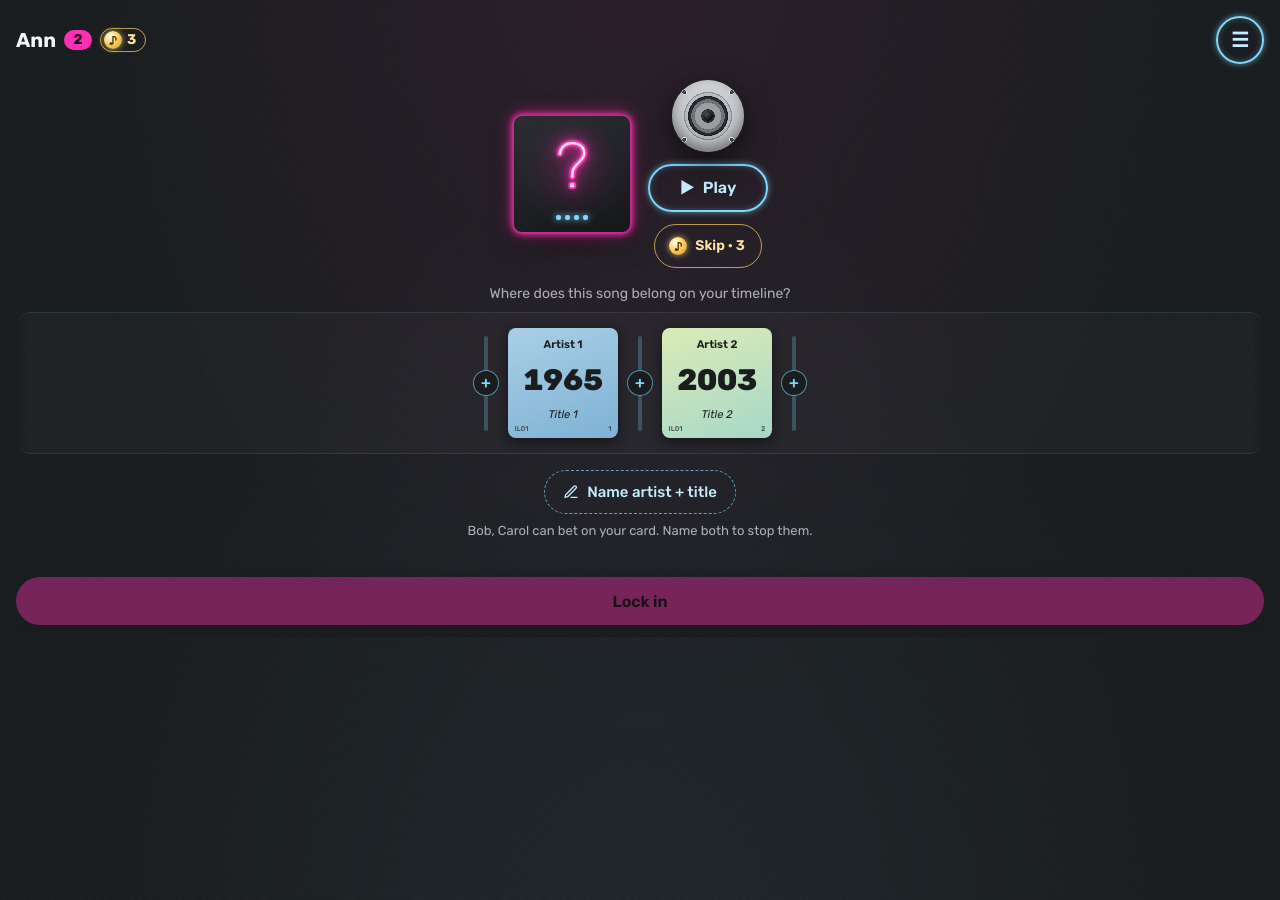
Test: GameScreen with tokens and bets: the turn › skip asks first: "Keep listening" changes nothing, Skip pays 3 tokens and loads a new song
What coordinates should you click on to do the following:
click the 2nd button with test id "timeline-slot"
I would click on:
 (640, 383)
Its box is [618, 324, 662, 442].
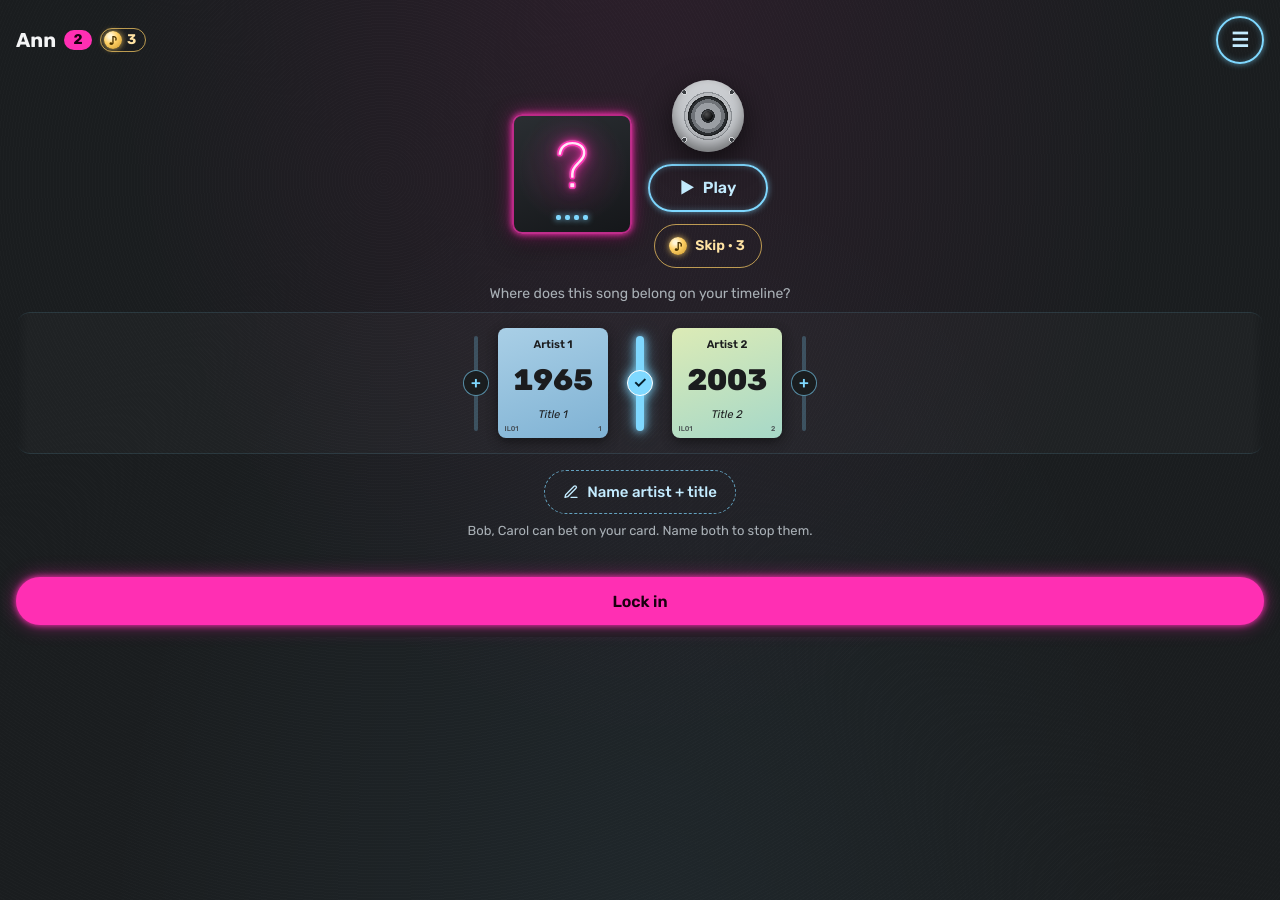
What coordinates should you click on to do the following:
click the button with test id "btn-skip-song"
I would click on:
 (708, 246)
Its box is [654, 224, 762, 268].
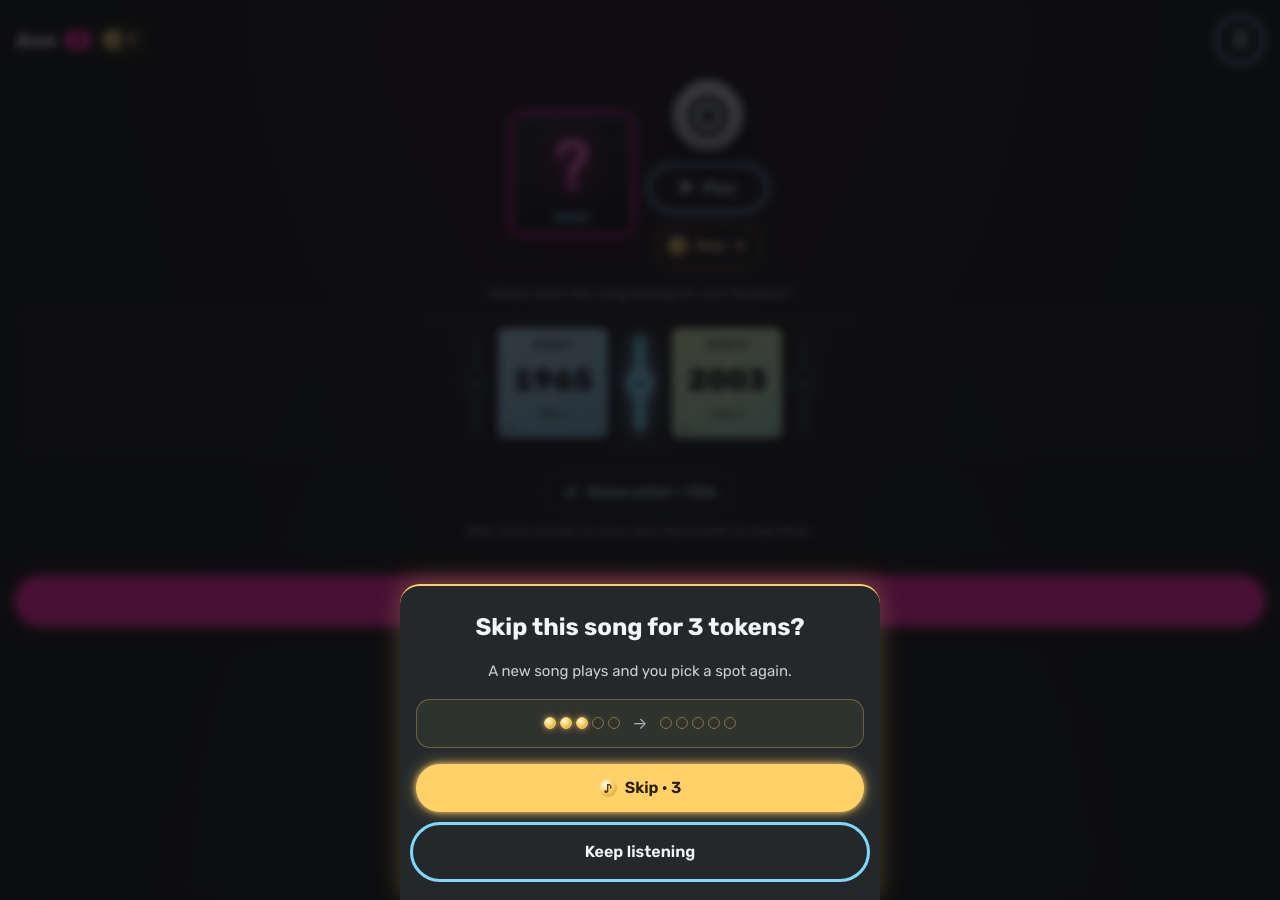
What coordinates should you click on to do the following:
click the button "Keep listening"
I would click on:
 (640, 852)
Its box is [416, 828, 864, 876].
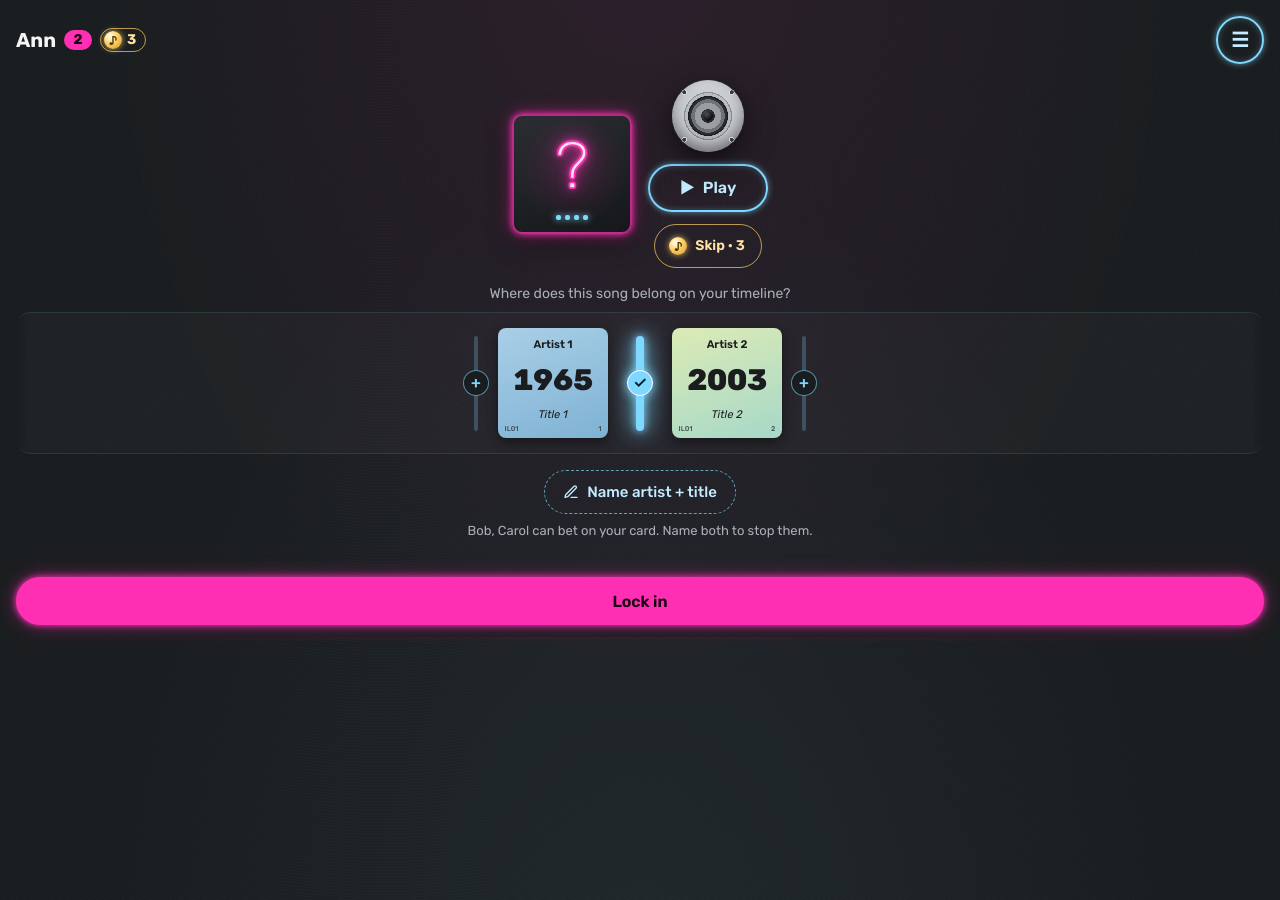
expect the picture with test id "current-player-tokens" shows "3": met, box [127, 31, 136, 48]
expect the dialog is gone: met
What coordinates should you click on to do the following:
click the button with test id "btn-skip-song"
I would click on:
 (708, 246)
Its box is [654, 224, 762, 268].
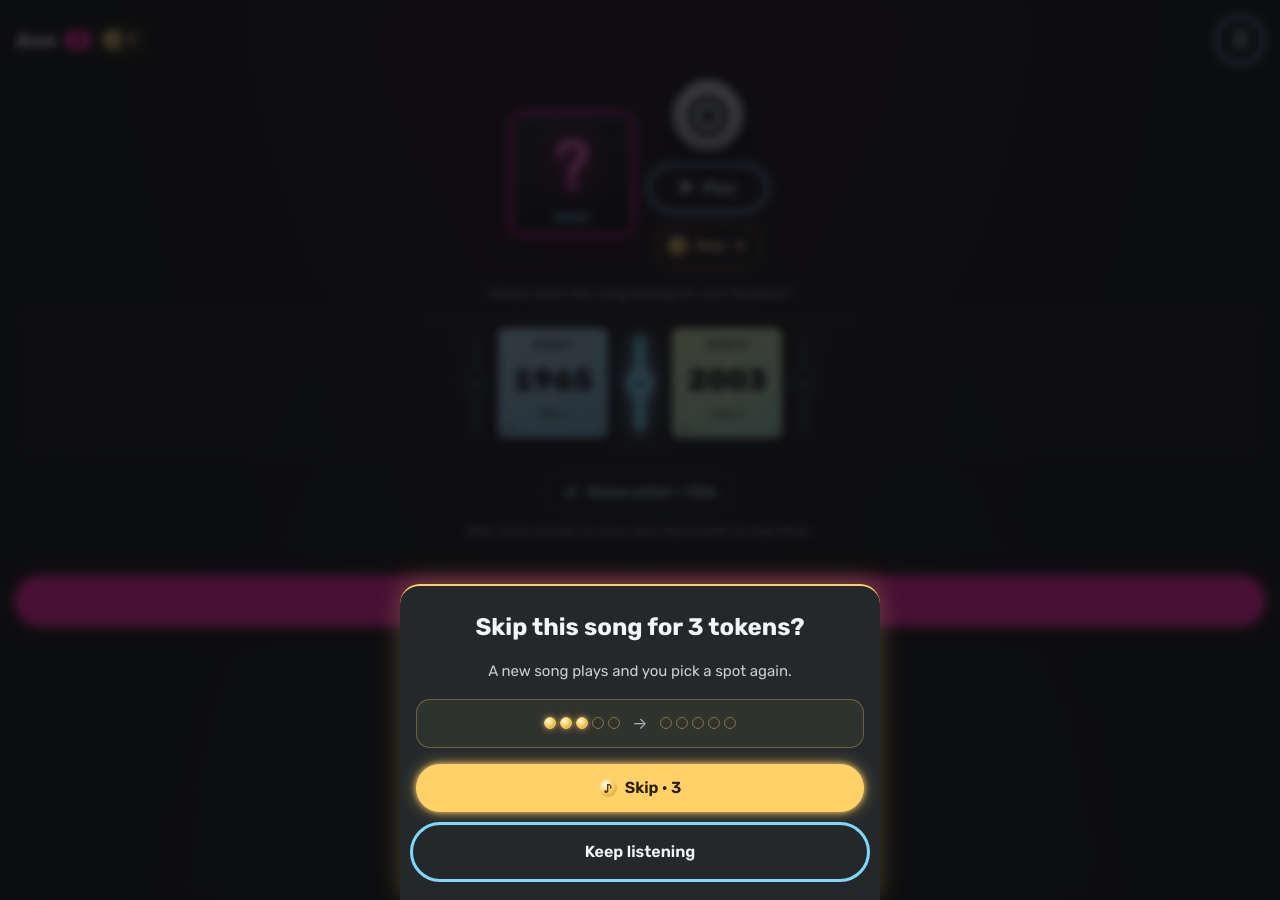
What coordinates should you click on to do the following:
click the button with test id "btn-confirm-skip"
I would click on:
 (640, 788)
Its box is [416, 764, 864, 812].
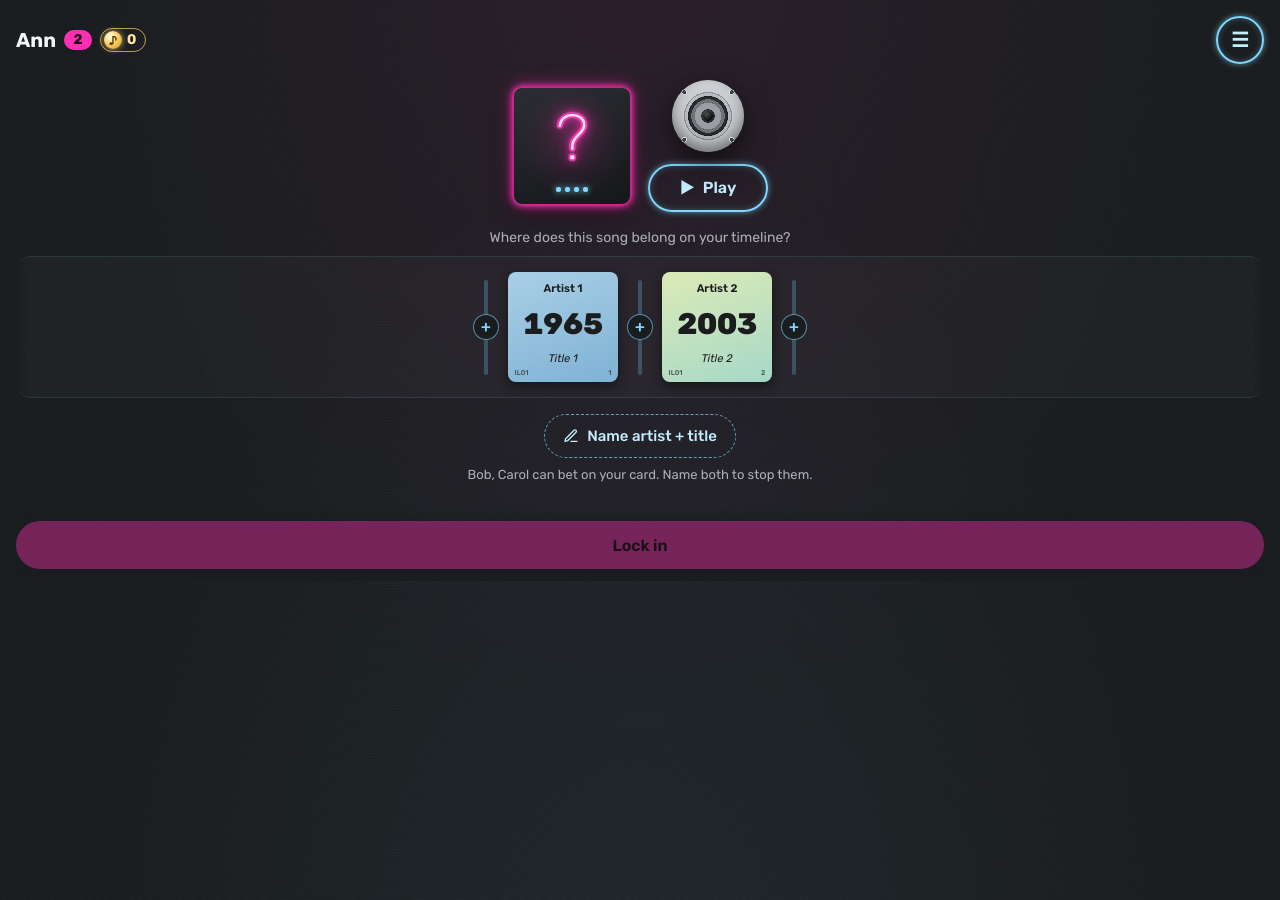
expect the dialog is gone: met
expect the picture with test id "current-player-tokens" shows "0": met, box [127, 31, 136, 48]
expect the button with test id "btn-skip-song" is gone: met
